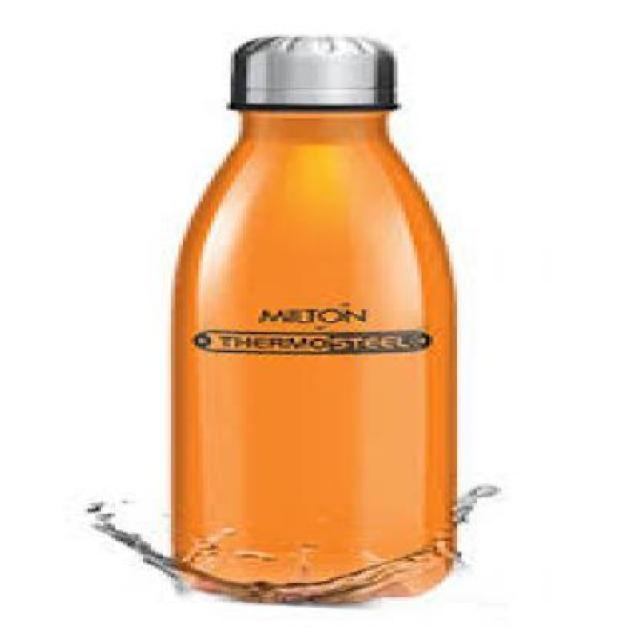Drinking: (119, 22, 493, 618)
